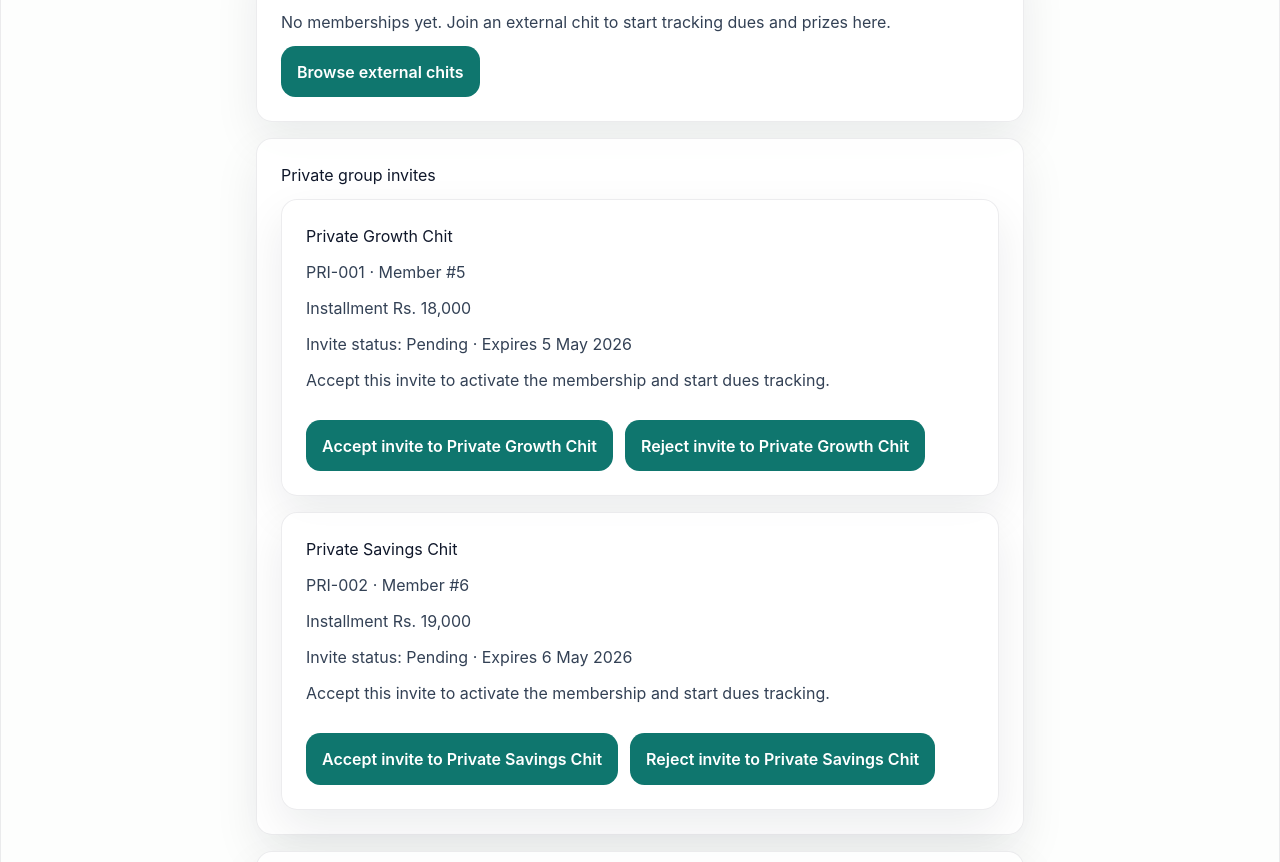
Test: lets a subscriber accept and reject private-group invites
(page scrolled)
Check: the heading "Private group invites" is shown, box [281,165,436,185]
Click the button "Accept invite to Private Growth Chit" at (459, 446), box [306,420,613,471]
(page scrolled)
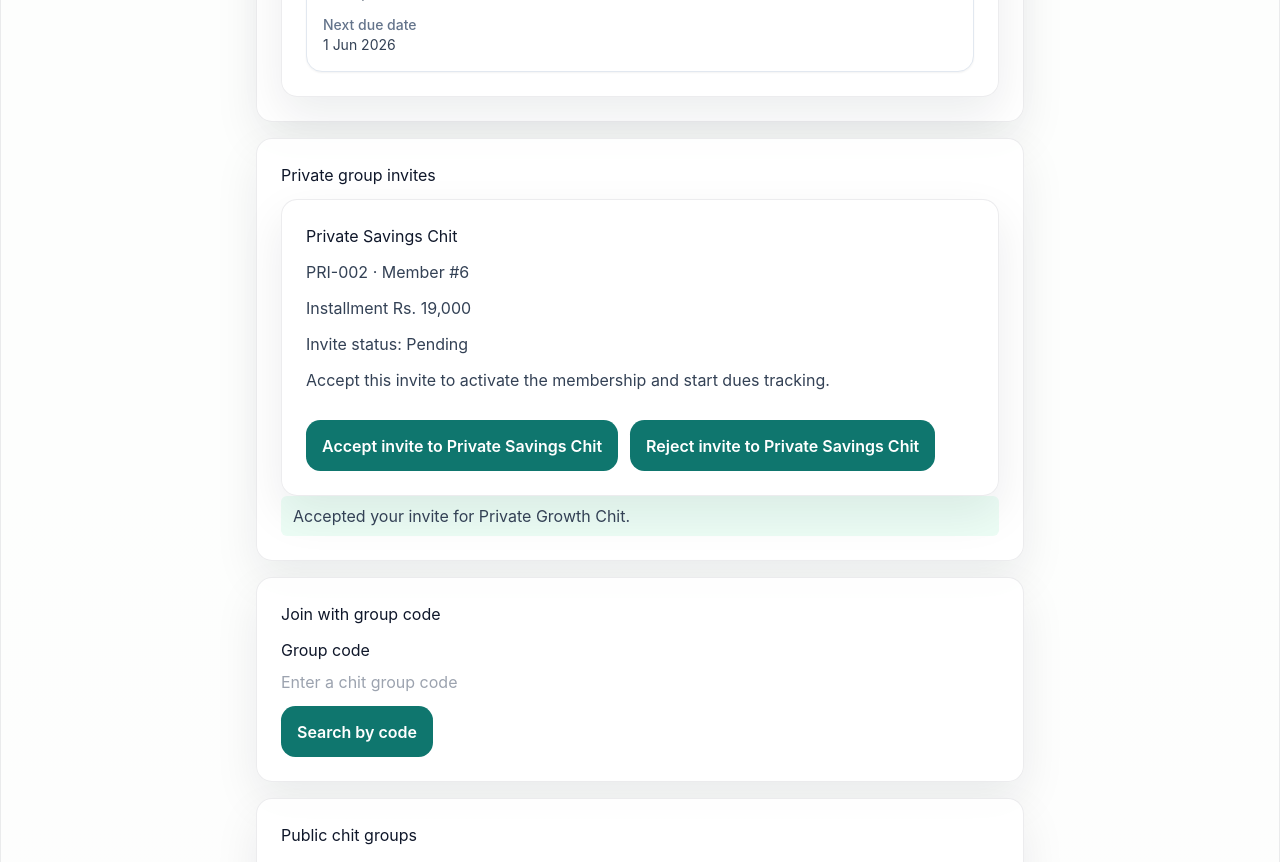
Check: the text "Accepted your invite for Private Growth Chit." is shown, box [281,496,999,536]
Click the button "Reject invite to Private Savings Chit" at (783, 446), box [630,420,935,471]
(page scrolled)
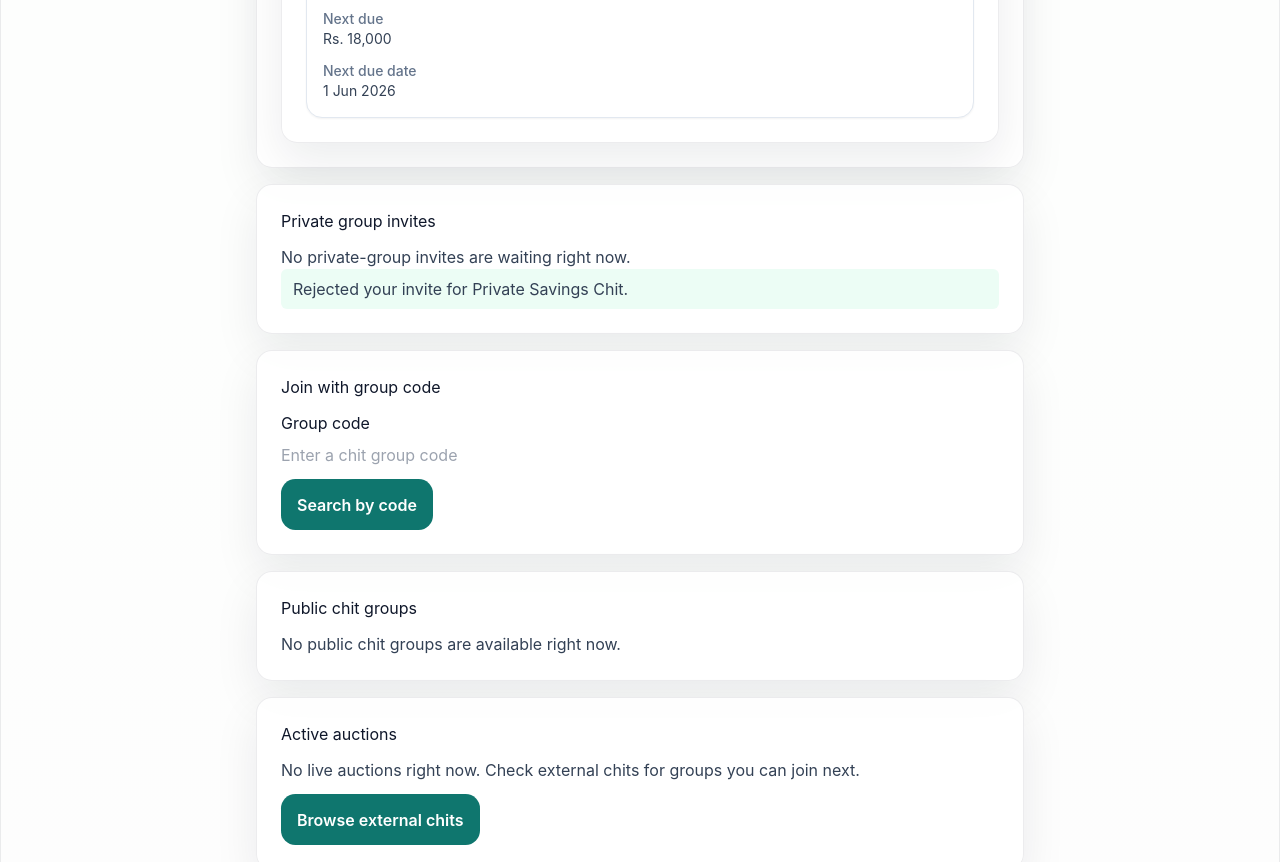
Check: the text "Rejected your invite for Private Savings Chit." is shown, box [281,269,999,309]
